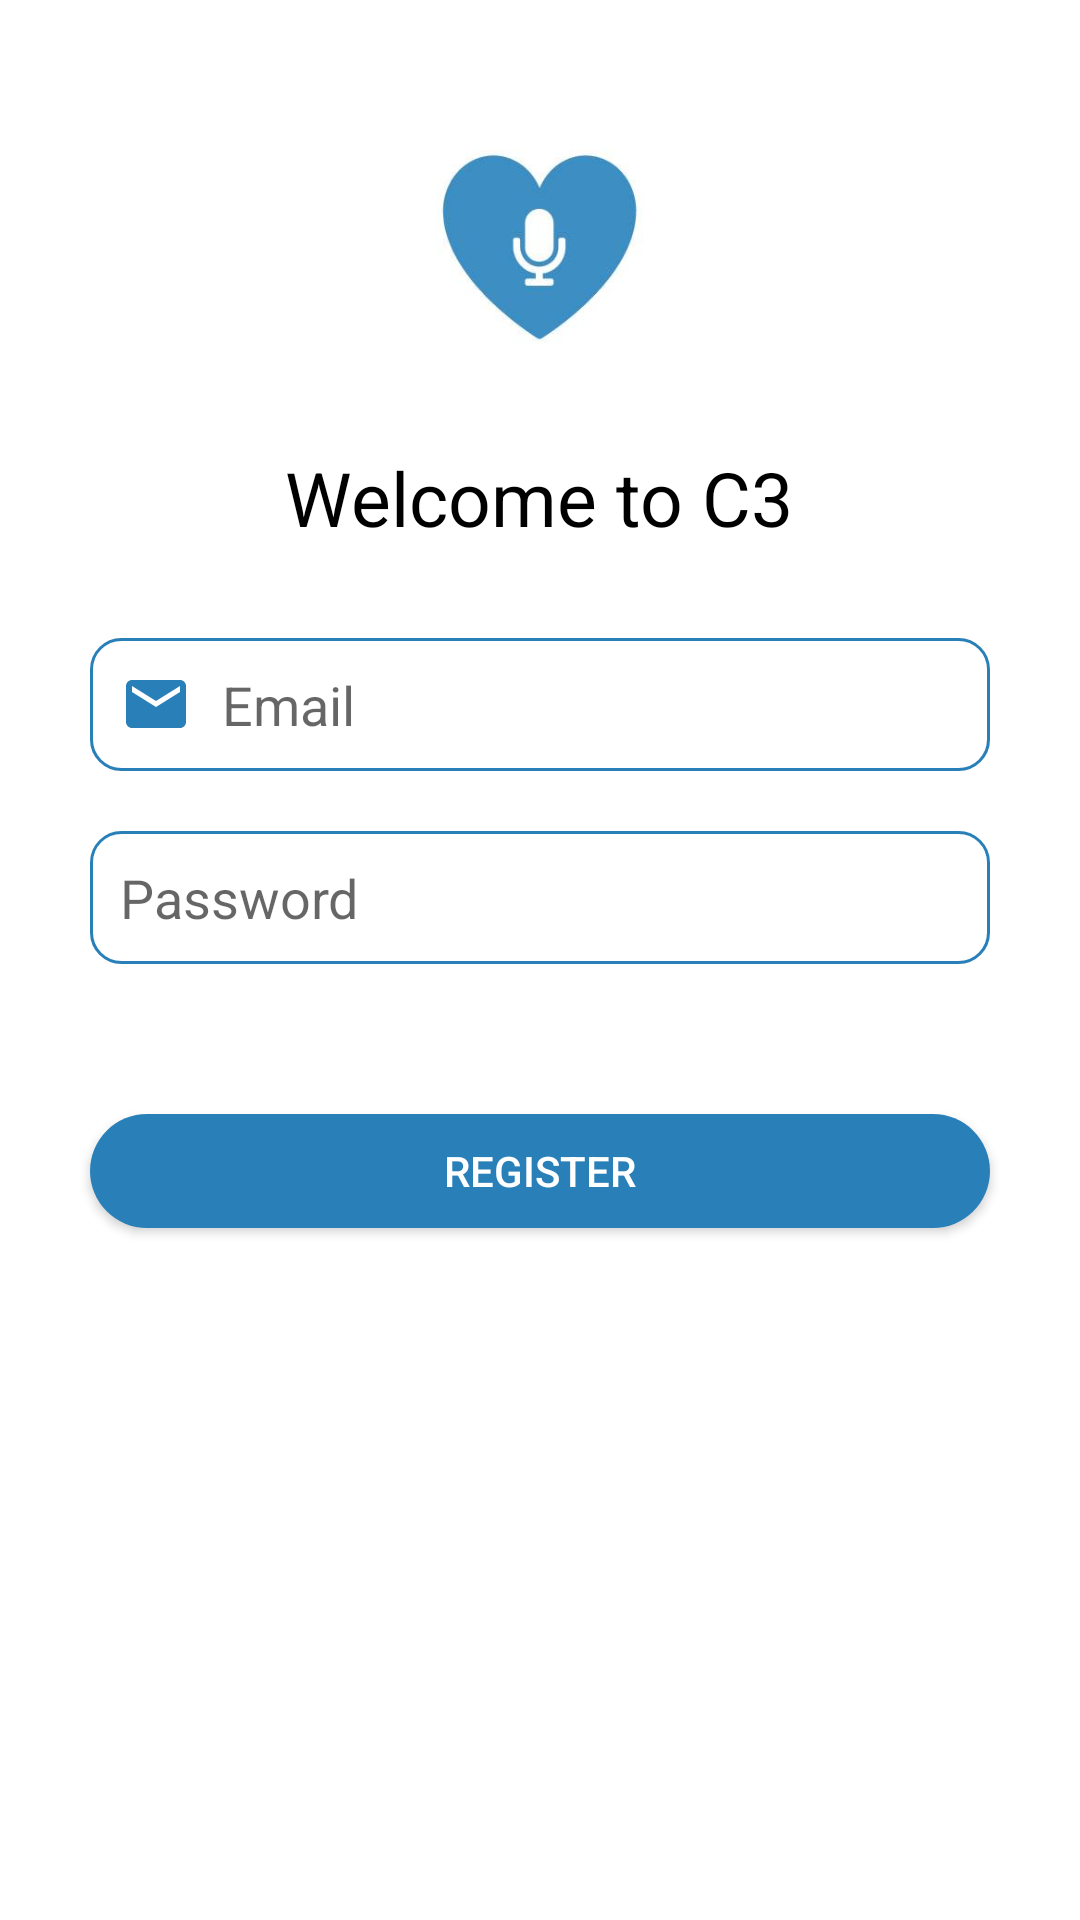

Locate icon controls on the screen. Image size 1080 × 1920, boxes as (x1, y1, x2, y2).
bluerecoedheart: (442, 155, 637, 340)
